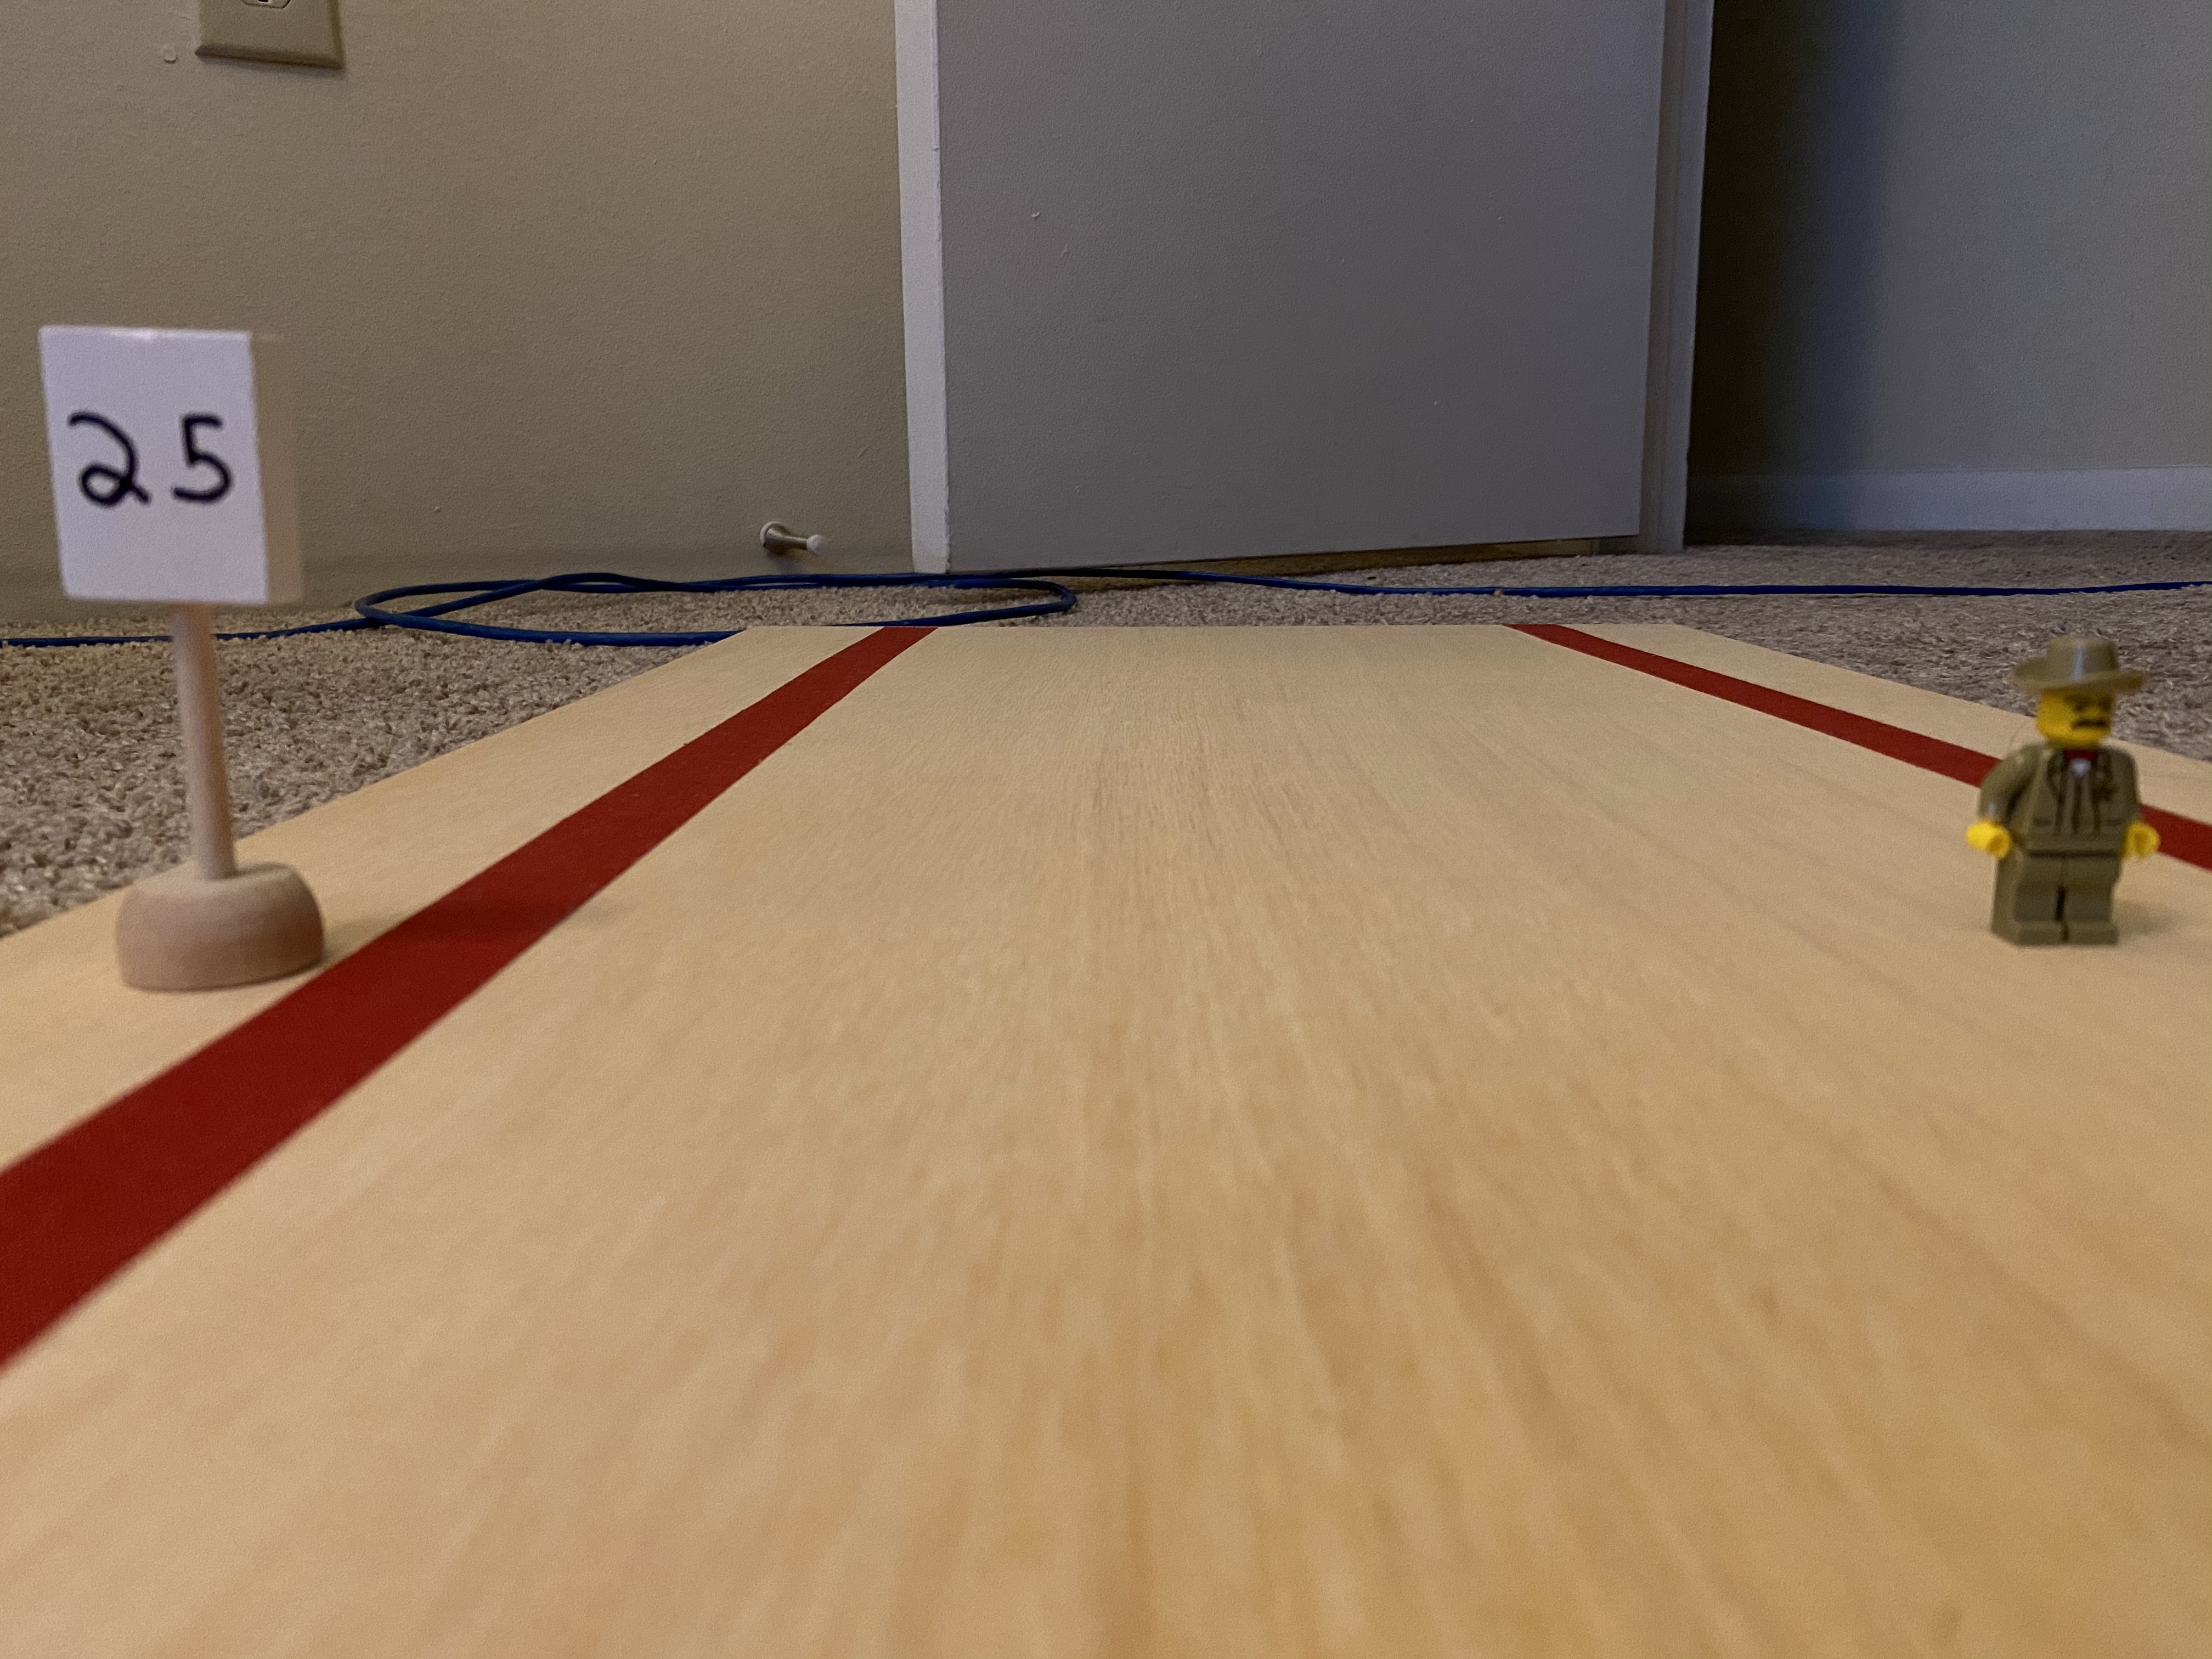Person: (1943, 610, 2190, 953)
Speed Limit 25: (13, 290, 310, 619)
